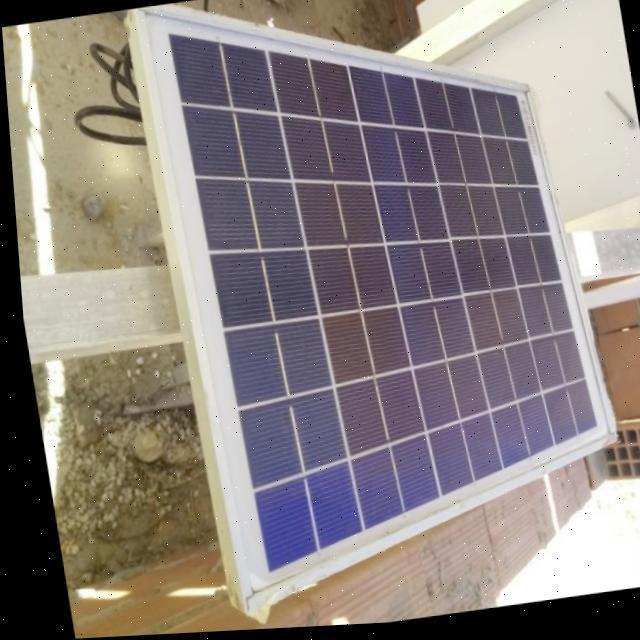Normal Solar Panel: (138, 0, 625, 607)
